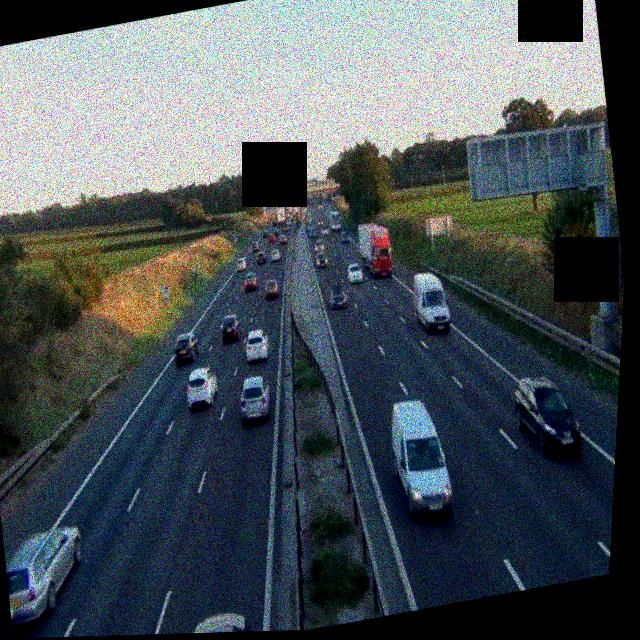bus: (327, 209, 343, 234)
car: (381, 394, 460, 525), (0, 524, 93, 628), (508, 370, 585, 466), (235, 373, 275, 423), (182, 364, 222, 410), (181, 609, 251, 634), (242, 326, 271, 362), (171, 331, 200, 365), (218, 311, 244, 343), (327, 280, 350, 310), (346, 260, 364, 285), (264, 276, 282, 300), (315, 248, 331, 270), (243, 271, 259, 290), (254, 248, 267, 266), (312, 240, 325, 258), (235, 256, 248, 271), (270, 245, 282, 261), (341, 231, 352, 245), (307, 224, 317, 237)
truck: (354, 220, 397, 280)
